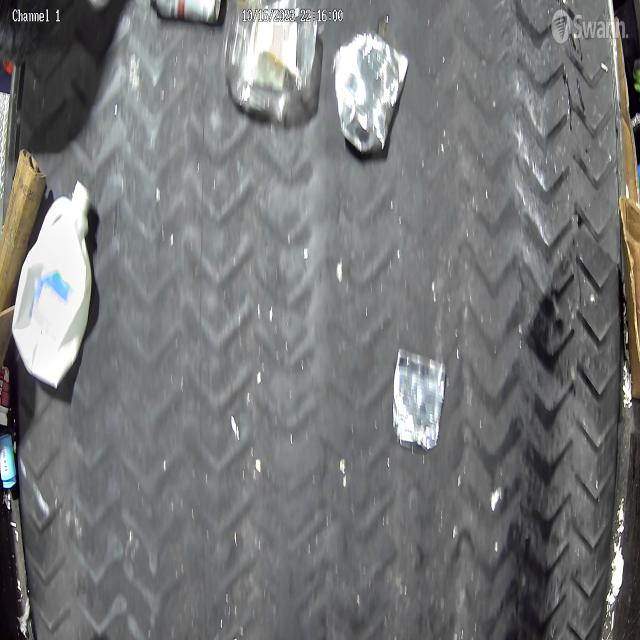can: (336, 29, 408, 155), (392, 348, 447, 452)
milk_jug: (12, 179, 92, 390)
